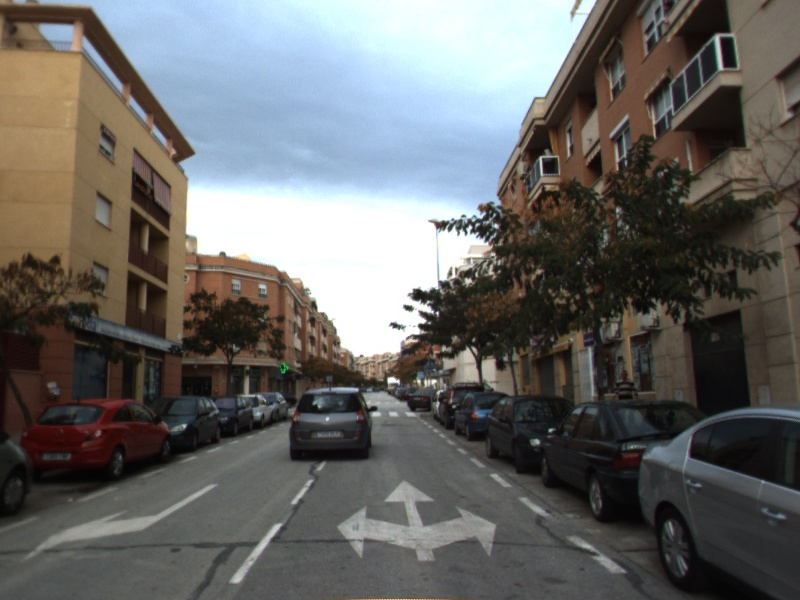STRAIGHT_LEFT_RIGHT: (334, 477, 499, 563)
